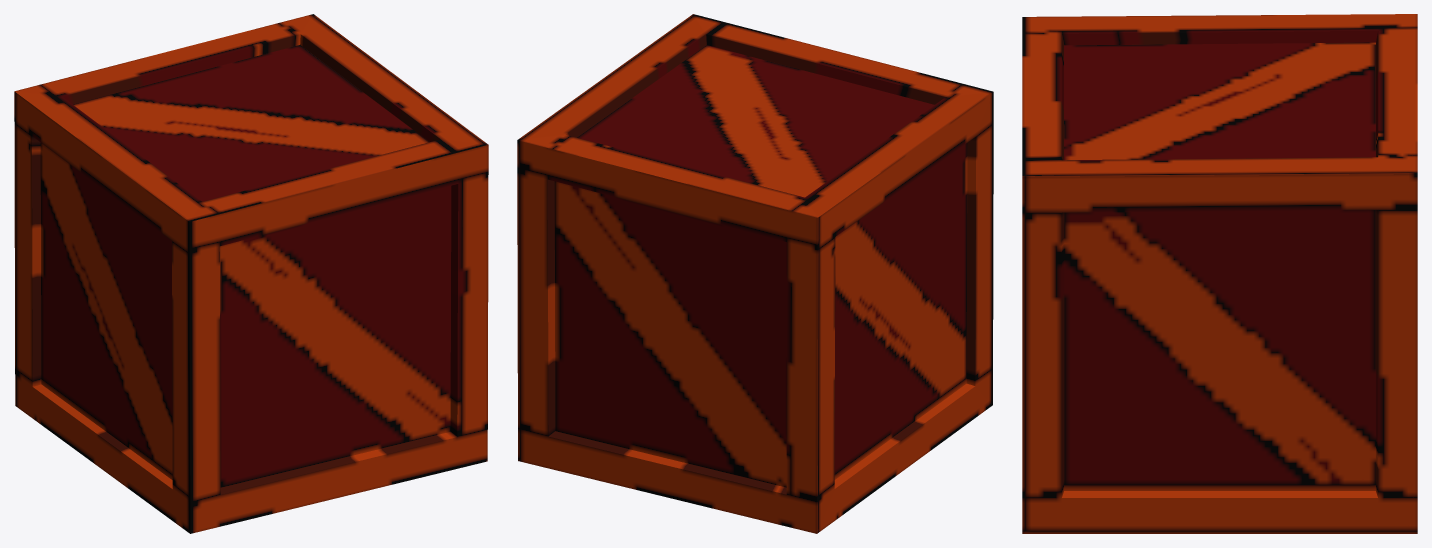
The model's file is Crate.obj.
3 views of the same model, side by side, from view 1: azimuth 30°, elevation 25°; view 2: azimuth 150°, elevation 25°; view 3: azimuth 270°, elevation 25° (orthographic). The views are drawn at different scales.
Parts seen in each view (by area): view 1: Cube; view 2: Cube; view 3: Cube.
Part boxes in pixels (box(x1,y1,x2,y2)): Cube: box(14, 14, 488, 533); Cube: box(517, 14, 993, 533); Cube: box(1022, 14, 1417, 533).
Bounding box in the file's own units: 1.97 × 2.01 × 2.
1 material, 1 textured.
